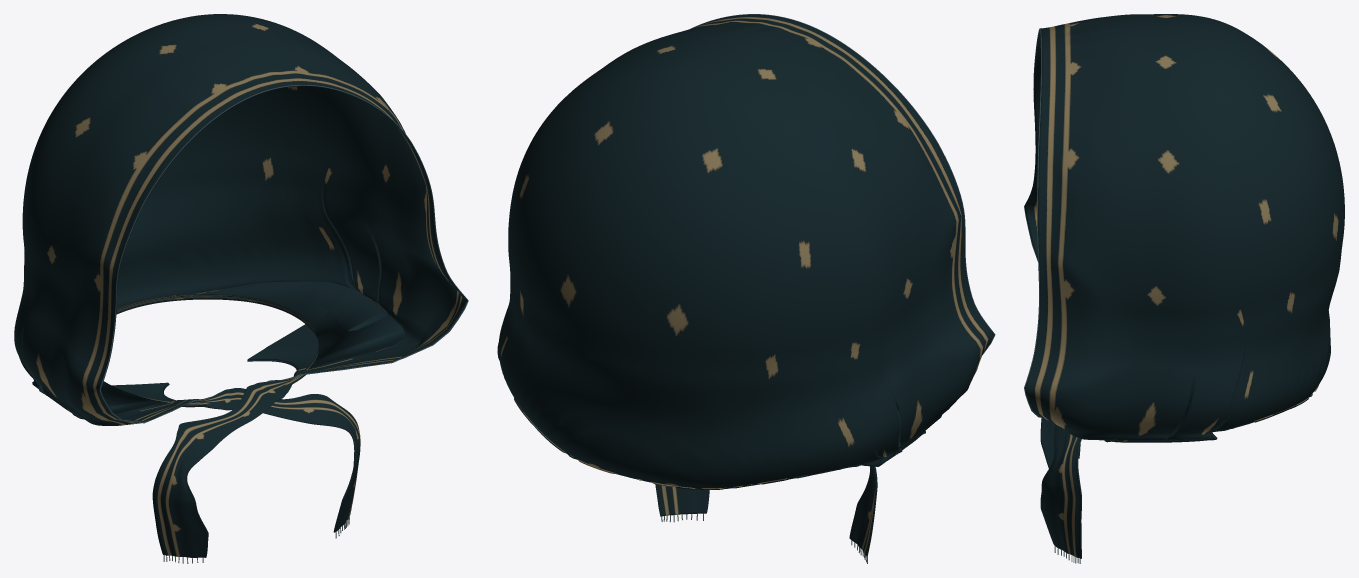
Rendered from Feminine-Feminine-curls-jersey-pashmina250-headgear-52d0b367.glb.
3 views of the same model, side by side, from view 1: azimuth 30°, elevation 25°; view 2: azimuth 150°, elevation 25°; view 3: azimuth 270°, elevation 25° (orthographic). The views are drawn at different scales.
Visible parts, largest first — view 1: 226 headgear / Headwear / continuous woven pashmina239, 226 headgear / Headwear / face edge239; view 2: 226 headgear / Headwear / continuous woven pashmina239, 226 headgear / Headwear / face edge239; view 3: 226 headgear / Headwear / continuous woven pashmina239, 226 headgear / Headwear / face edge239.
Boxes of the visible parts, left/top/right/bottom form: 226 headgear / Headwear / continuous woven pashmina239: left=14, top=14, right=467, bottom=557; 226 headgear / Headwear / face edge239: left=99, top=85, right=468, bottom=423; 226 headgear / Headwear / continuous woven pashmina239: left=497, top=14, right=994, bottom=556; 226 headgear / Headwear / face edge239: left=690, top=14, right=995, bottom=354; 226 headgear / Headwear / continuous woven pashmina239: left=1024, top=14, right=1344, bottom=558; 226 headgear / Headwear / face edge239: left=1024, top=28, right=1041, bottom=417.
Bounding box in the file's own units: 1.02 × 1.24 × 0.7392.
Materials: 3 (1 with a texture image).
